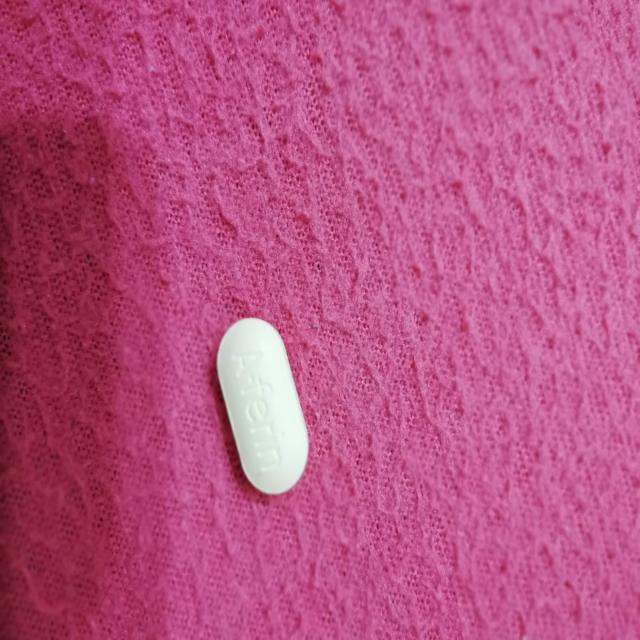pills: (202, 299, 321, 512)
